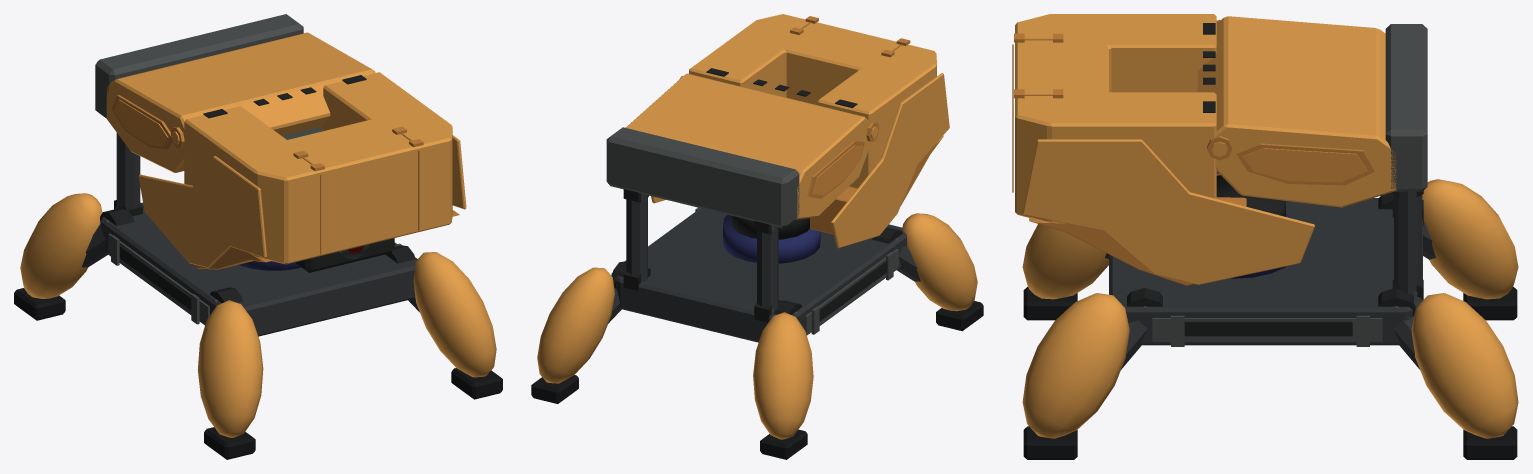
The model's file is phido_lowpoly.glb.
The picture shows the model from 3 angles, left to right: view 1: azimuth 30°, elevation 25°; view 2: azimuth 150°, elevation 25°; view 3: azimuth 270°, elevation 25°; orthographic projection. The views are drawn at different scales.
Visible parts, largest first — view 1: Phido_Lowpoly; view 2: Phido_Lowpoly; view 3: Phido_Lowpoly.
Boxes of the visible parts, x1,y1,x2,y2 form: Phido_Lowpoly: (14, 14, 502, 459); Phido_Lowpoly: (531, 14, 983, 459); Phido_Lowpoly: (1012, 14, 1518, 459).
Size of the model in its own units: 1.26 by 1.18 by 1.69.
Materials: 1 (1 with a texture image).
